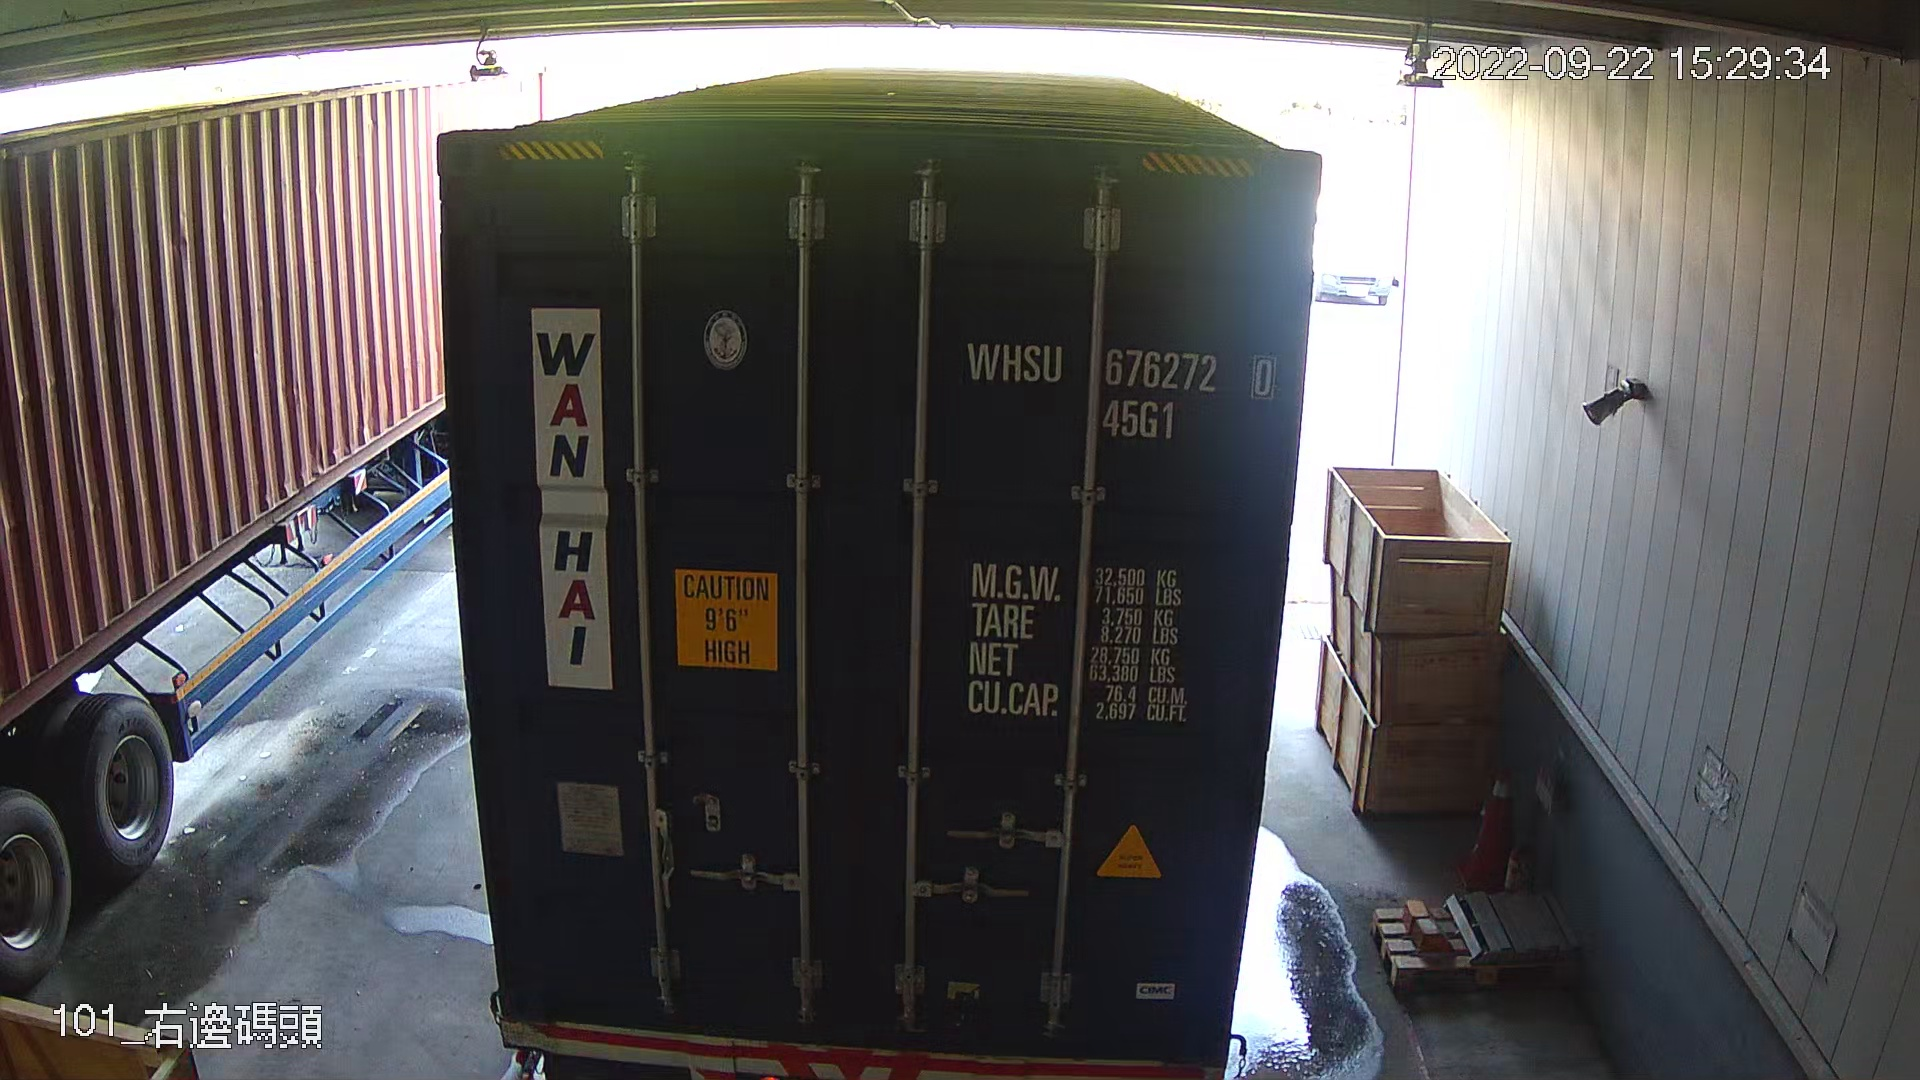container: (949, 332, 1284, 448)
